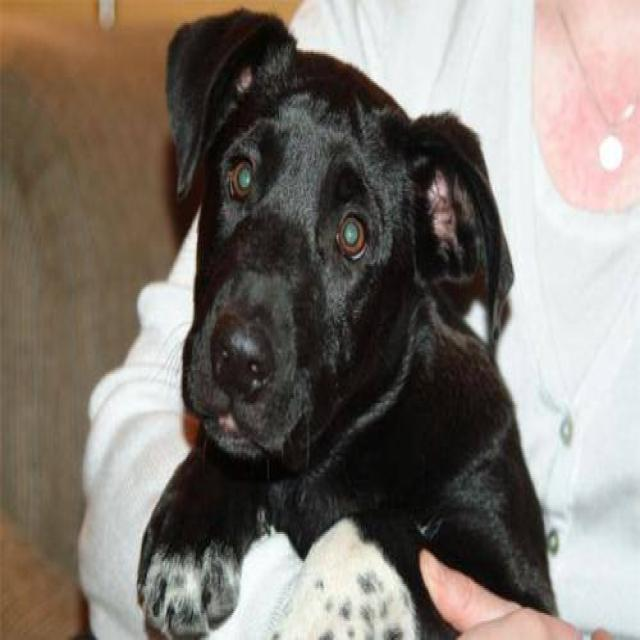dog: (133, 4, 563, 638)
